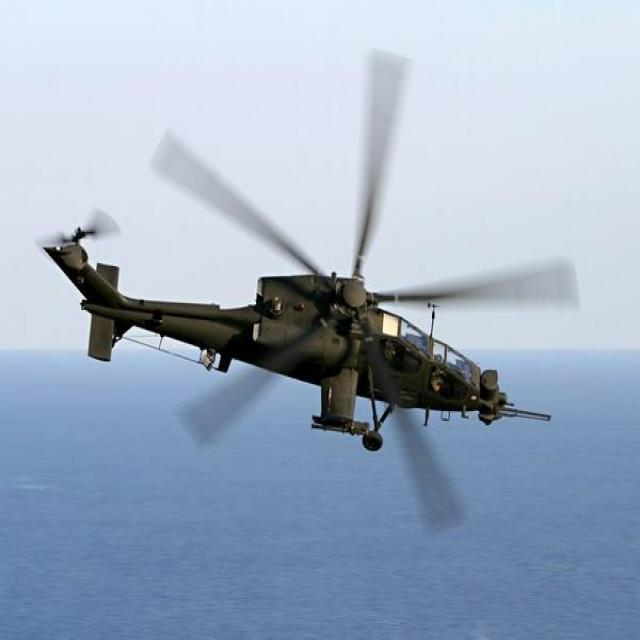MIL_HELO: (23, 33, 593, 539)
